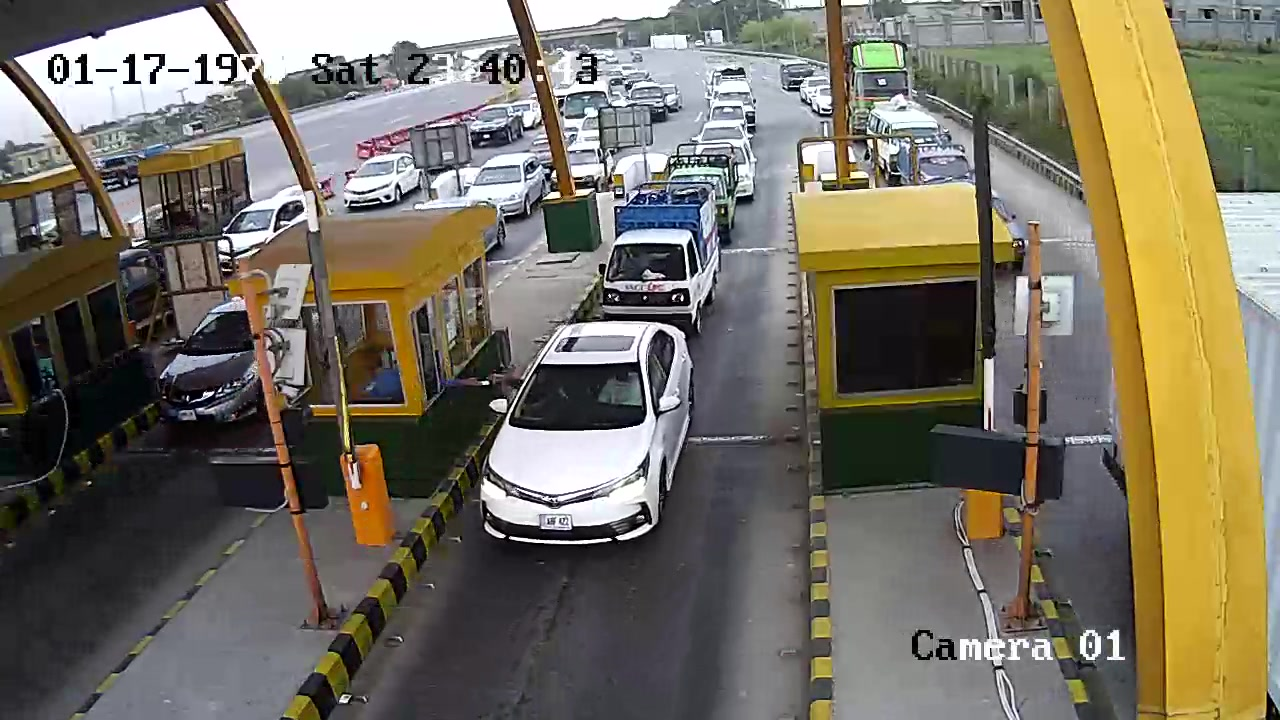F1: (465, 317, 730, 566)
